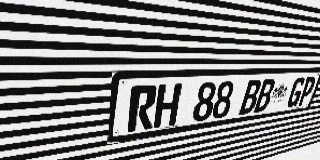8: (191, 82, 218, 122), (210, 81, 236, 119)
B: (238, 79, 263, 115), (253, 79, 276, 113)
G: (285, 77, 307, 108)
H: (153, 84, 182, 128)
P: (296, 77, 317, 106)
R: (127, 85, 158, 132)
